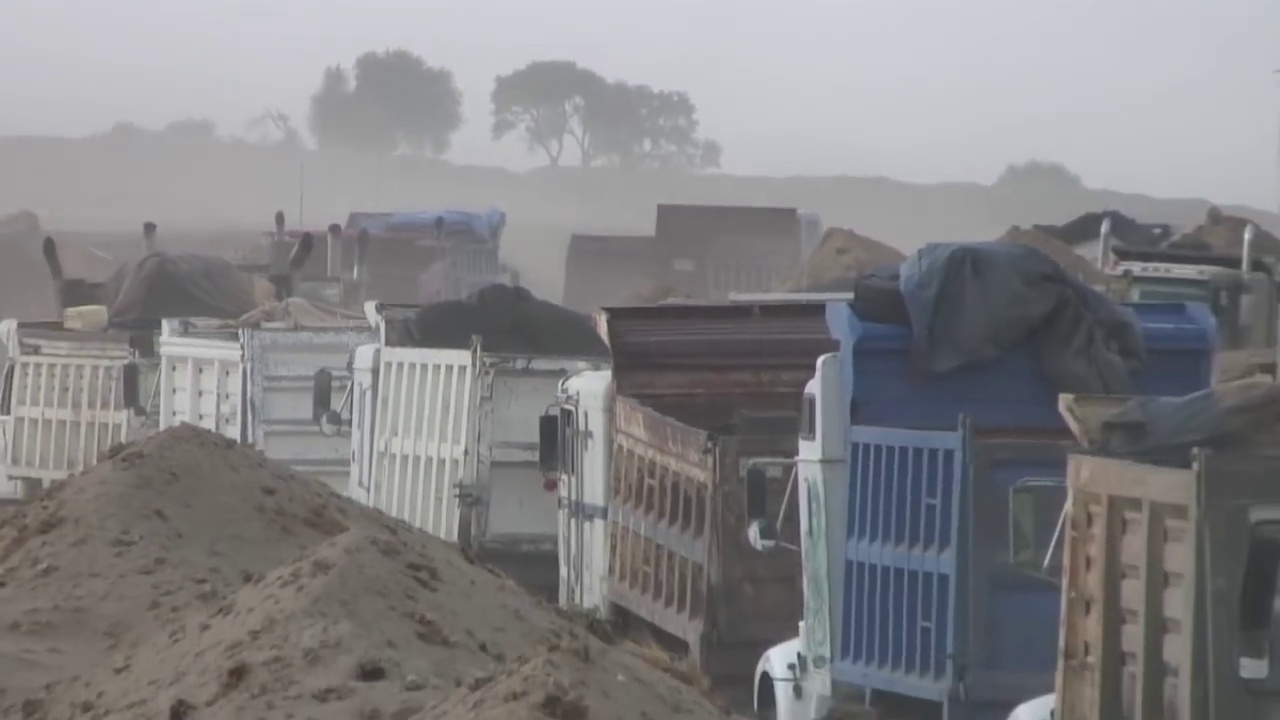truck: (801, 297, 1087, 720), (548, 304, 823, 669), (1042, 386, 1280, 707), (312, 328, 547, 572), (159, 313, 364, 518), (4, 306, 153, 482)
